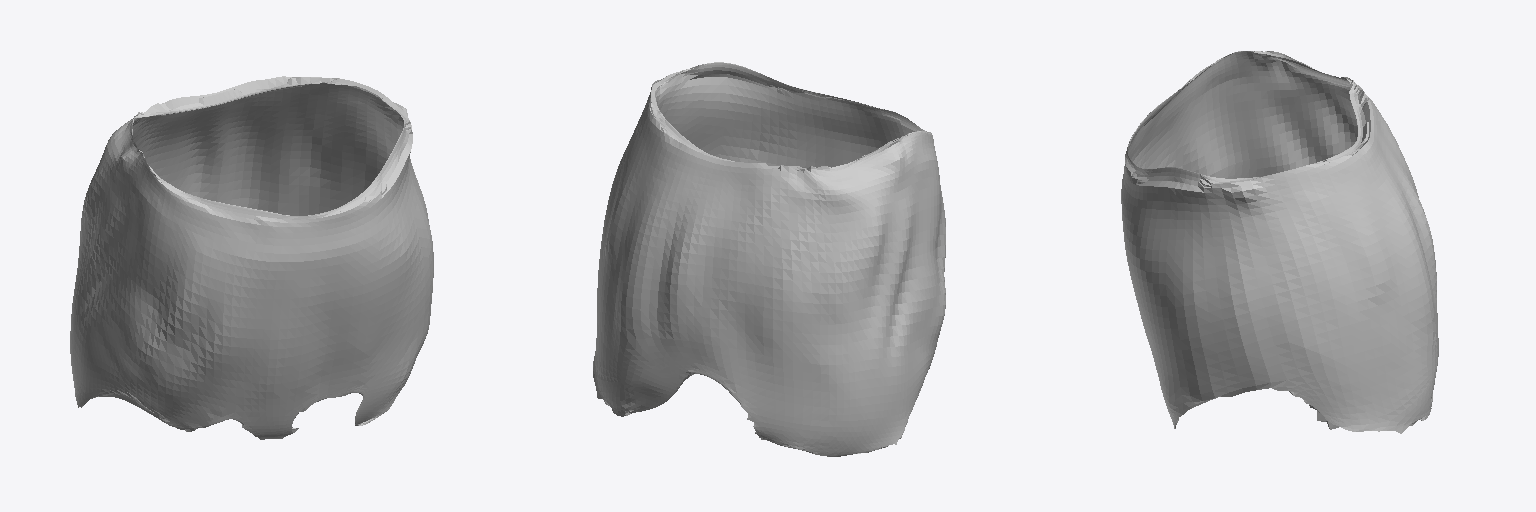
File: HighPoly_Cloth.OBJ
The picture shows the model from 3 angles: view 1: azimuth 30°, elevation 25°; view 2: azimuth 150°, elevation 25°; view 3: azimuth 270°, elevation 25°; orthographic projection.
Parts seen in each view (by area): view 1: Group1; view 2: Group1; view 3: Group1.
Part boxes in pixels (bbox=[...]): Group1: bbox=[70, 76, 433, 439]; Group1: bbox=[593, 62, 945, 456]; Group1: bbox=[1121, 51, 1438, 433].
Bounding box in the file's own units: 2.51 × 2.24 × 2.23.